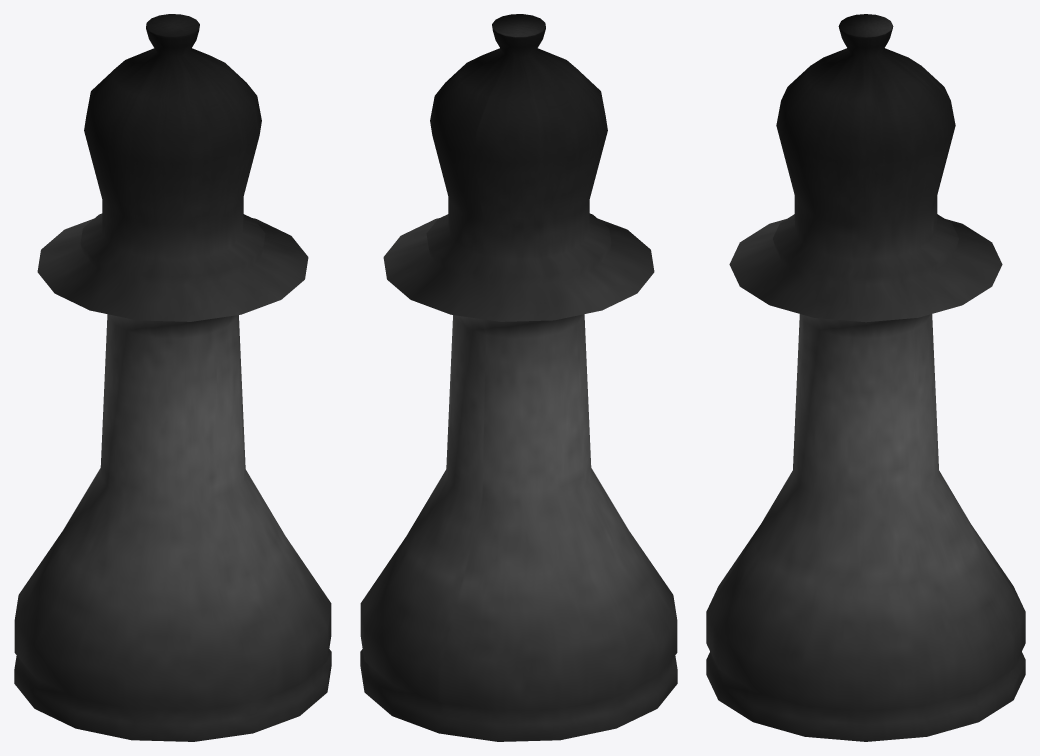
The model's file is idk.glb.
3 renders of one model, left to right at view 1: azimuth 30°, elevation 25°; view 2: azimuth 150°, elevation 25°; view 3: azimuth 270°, elevation 25°, orthographic.
Visible parts, largest first — view 1: Cylinder.002_Material.001_0; view 2: Cylinder.002_Material.001_0; view 3: Cylinder.002_Material.001_0.
Boxes of the visible parts, x1,y1,x2,y2 form: Cylinder.002_Material.001_0: (14,14,331,741); Cylinder.002_Material.001_0: (360,14,677,741); Cylinder.002_Material.001_0: (706,14,1025,741).
Size of the model in its own units: 6.49 by 14.54 by 6.49.
Materials: 1 (1 with a texture image).
